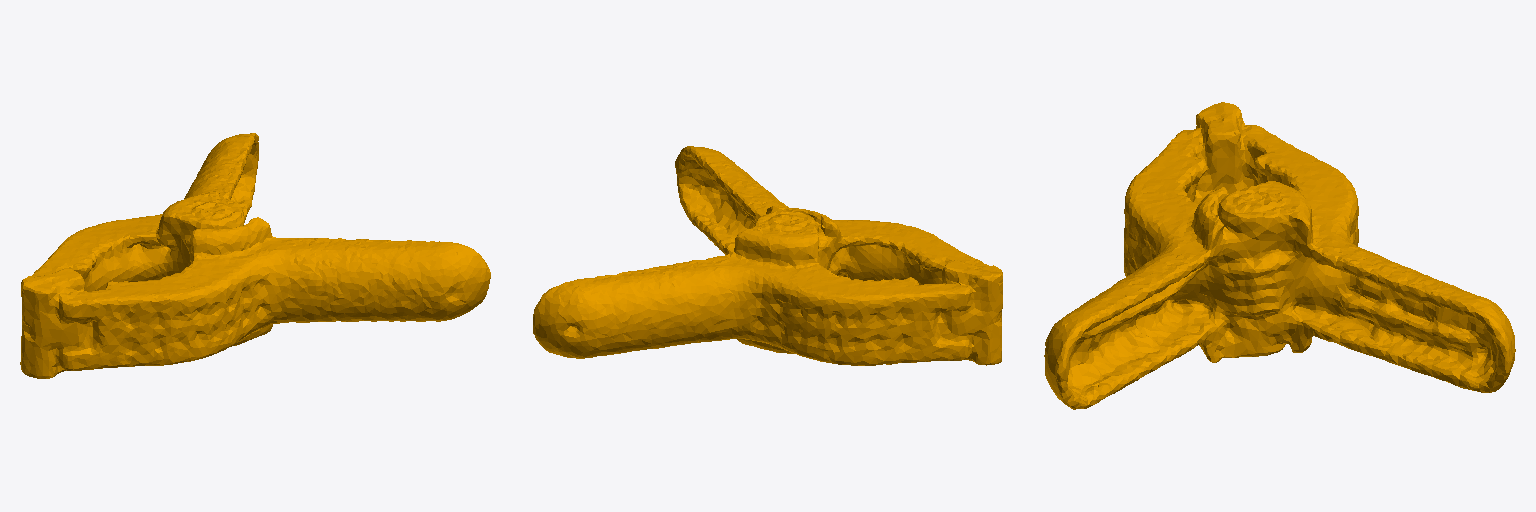
robot.urdf — 050_medium_clamp:
<?xml version="1.0" ?>
<robot name="050_medium_clamp">
  <link name="base_link">
    <inertial>
      <mass value="0.007566651591888768"/>
      <origin rpy="-1.95834 -1.55959  2.09206" xyz="0.022   -0.01384  0.01258"/>
      <inertia ixx="5.100157797019725e-06" ixy="1.0072071776322403e-22" ixz="-3.722324069004751e-23" iyy="3.4552068736840886e-06" iyz="-2.6229976637928483e-22" izz="2.1423305014474594e-06"/>
    </inertial>
    <collision name="050_medium_clamp__collision">
      <origin rpy="0 0 0" xyz="0 0 0"/>
      <geometry>
        <mesh filename="./050_medium_clamp_250_collision.stl" scale="1.0 1.0 1.0"/>
      </geometry>
    </collision>
    <visual name="050_medium_clamp__visual">
      <origin rpy="0 0 0" xyz="0 0 0"/>
      <geometry>
        <mesh filename="./textured.obj" scale="1.0 1.0 1.0"/>
      </geometry>
    </visual>
  </link>
</robot>

--- What the picture shows (computed from the rendered views, not written in the file) ---
Views: 3 orthographic renders of the robot side by side, from view 1: azimuth 30°, elevation 25°; view 2: azimuth 150°, elevation 25°; view 3: azimuth 270°, elevation 25°.
Robot: 050_medium_clamp — 1 links, 0 joints (none); root link base_link; default pose: all joints at 0.
Links seen in each view (by area): view 1: base_link; view 2: base_link; view 3: base_link.
Boxes of the visible links, x1,y1,x2,y2 form: base_link: (20, 133, 490, 378); base_link: (533, 146, 1002, 365); base_link: (1044, 102, 1515, 409).
Bounding box of the posed robot: 0.0889 × 0.0768 × 0.0261 m (x, y, z).
Meshes: 1 distinct files referenced, 1 mesh visuals loaded (1 OBJ).